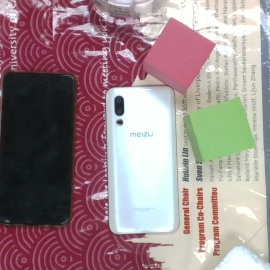phone: (1, 70, 75, 227)
